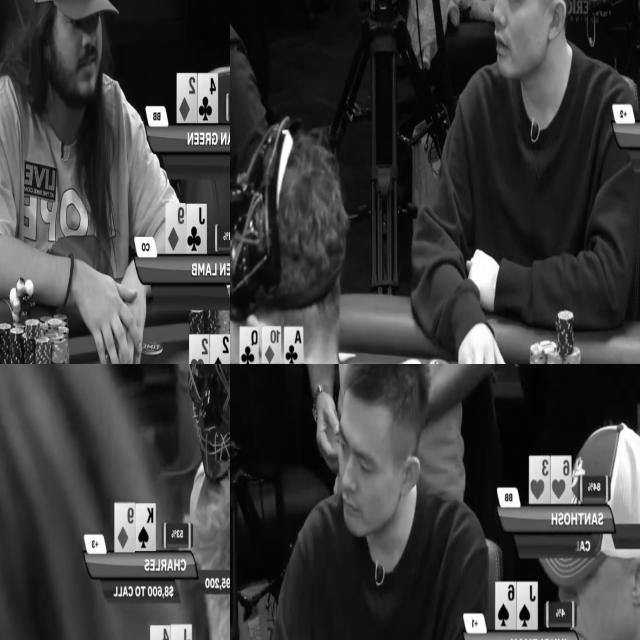10D: (262, 326, 281, 362)
2D: (177, 73, 196, 123)
2H: (190, 335, 209, 364)
2S: (210, 335, 229, 364)
3H: (529, 458, 548, 502)
4C: (198, 73, 217, 123)
4D: (150, 626, 170, 640)
6H: (552, 458, 571, 501)
6S: (496, 584, 515, 628)
9D: (114, 501, 135, 553), (166, 203, 185, 253)
AC: (285, 325, 303, 364)
JC: (187, 204, 206, 253)
JD: (170, 622, 193, 640)
JS: (518, 585, 537, 629)
KS: (134, 504, 155, 552)
QC: (239, 328, 257, 364)
